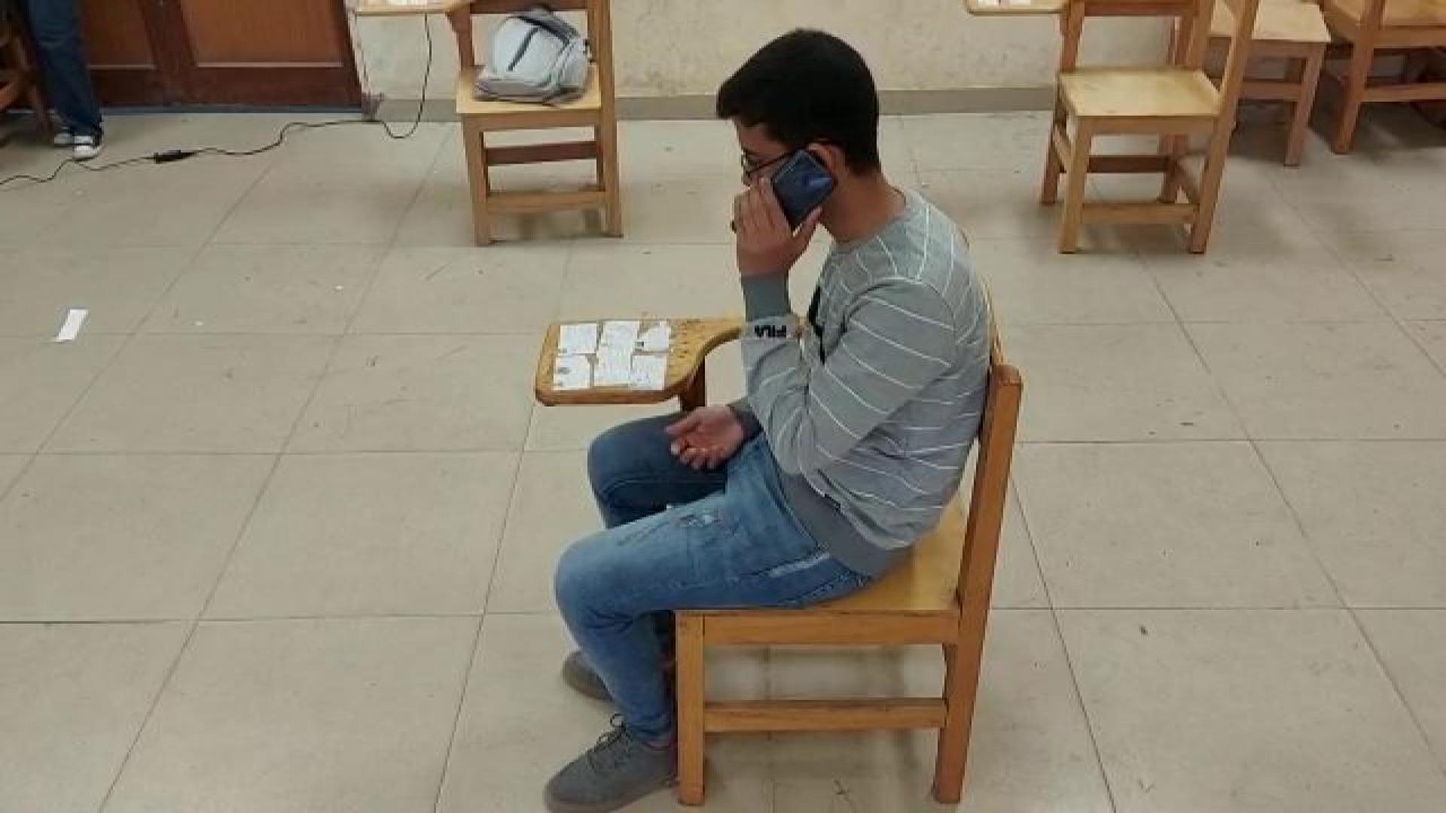phone: (728, 155, 836, 237)
